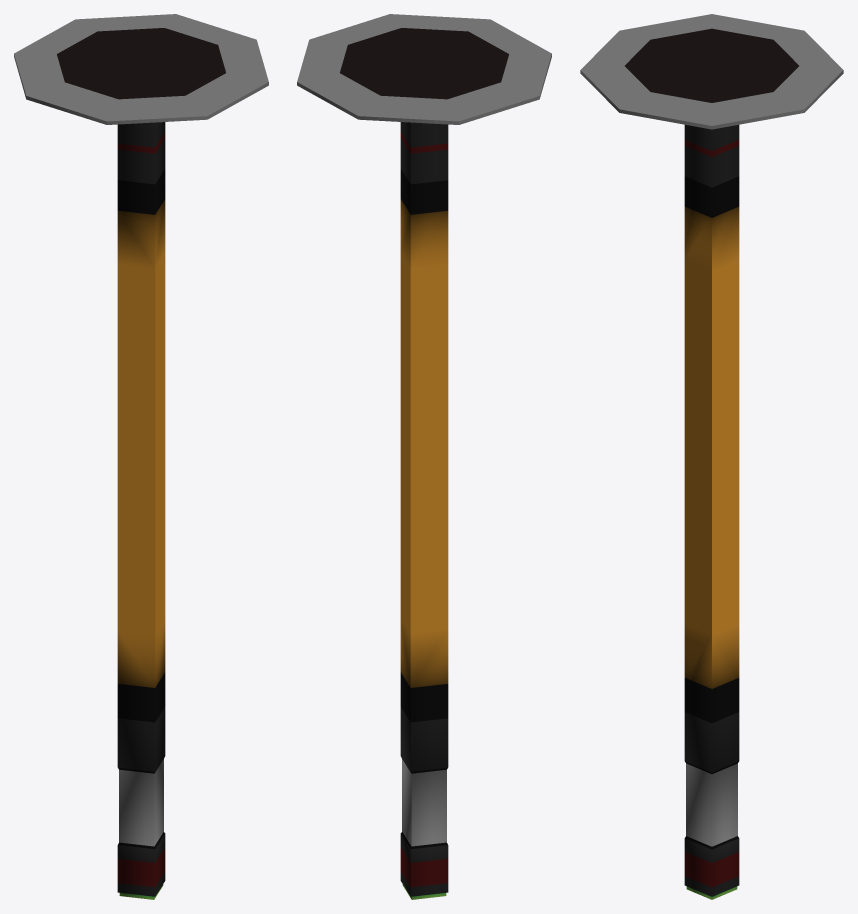
The model's file is W_O_Streetlamp_001_L1.fbx.
3 views of the same model, side by side, from view 1: azimuth 30°, elevation 25°; view 2: azimuth 150°, elevation 25°; view 3: azimuth 270°, elevation 25° (orthographic).
Parts seen in each view (by area): view 1: W_O_Streetlamp_001_L1; view 2: W_O_Streetlamp_001_L1; view 3: W_O_Streetlamp_001_L1.
Part boxes in pixels (bbox=[...]): W_O_Streetlamp_001_L1: bbox=[14, 14, 268, 899]; W_O_Streetlamp_001_L1: bbox=[297, 14, 551, 899]; W_O_Streetlamp_001_L1: bbox=[580, 14, 843, 899].
Bounding box in the file's own units: 0.3946 × 0.3919 × 1.35.
